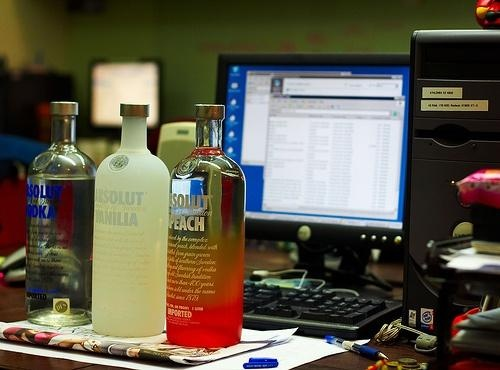bottle: (165, 103, 247, 347), (94, 104, 166, 337), (25, 102, 93, 325)
tvmonitor: (216, 52, 416, 304), (89, 61, 162, 141)
